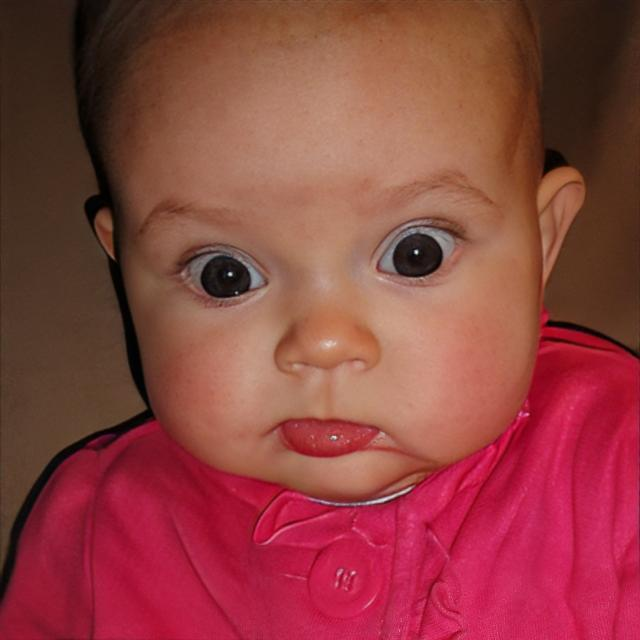surprise: (78, 0, 546, 504)
